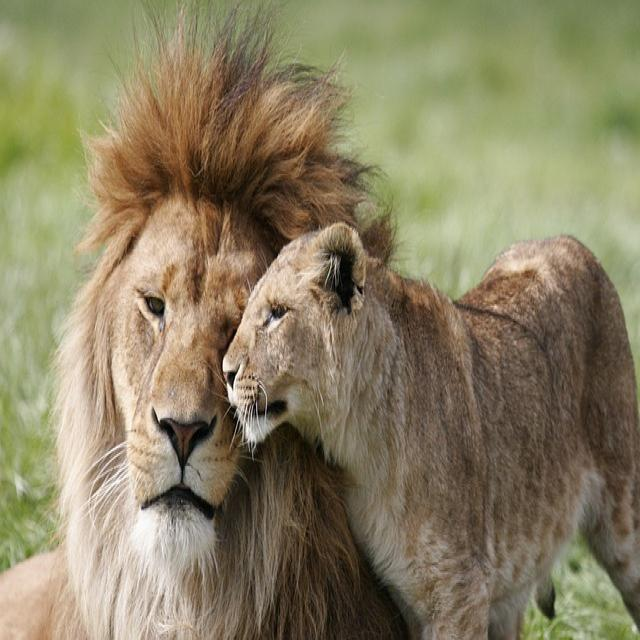Carnivorous: (0, 19, 421, 640), (223, 222, 640, 640)
